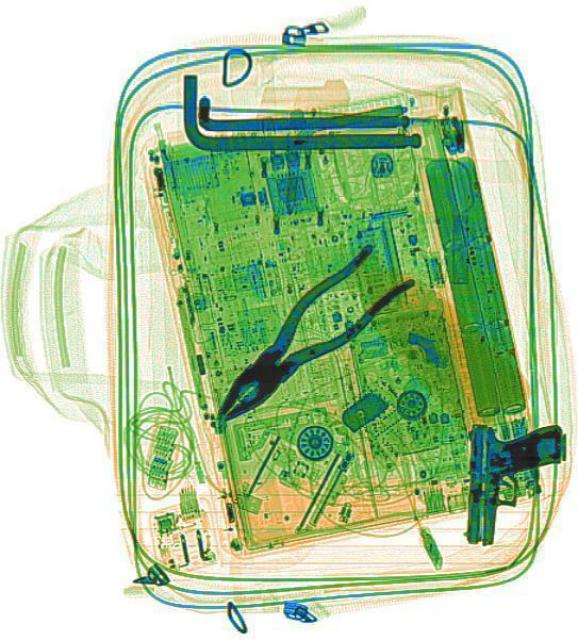Gun: (458, 416, 565, 548)
Pliers: (191, 231, 413, 443)
